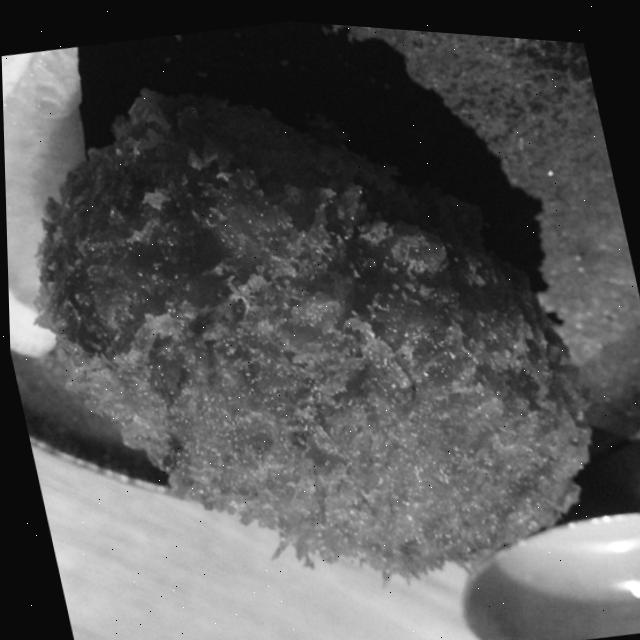炸货点心: (0, 1, 617, 627)
